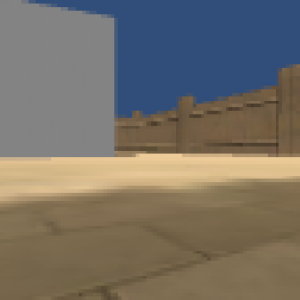wall: (1, 1, 118, 159)
